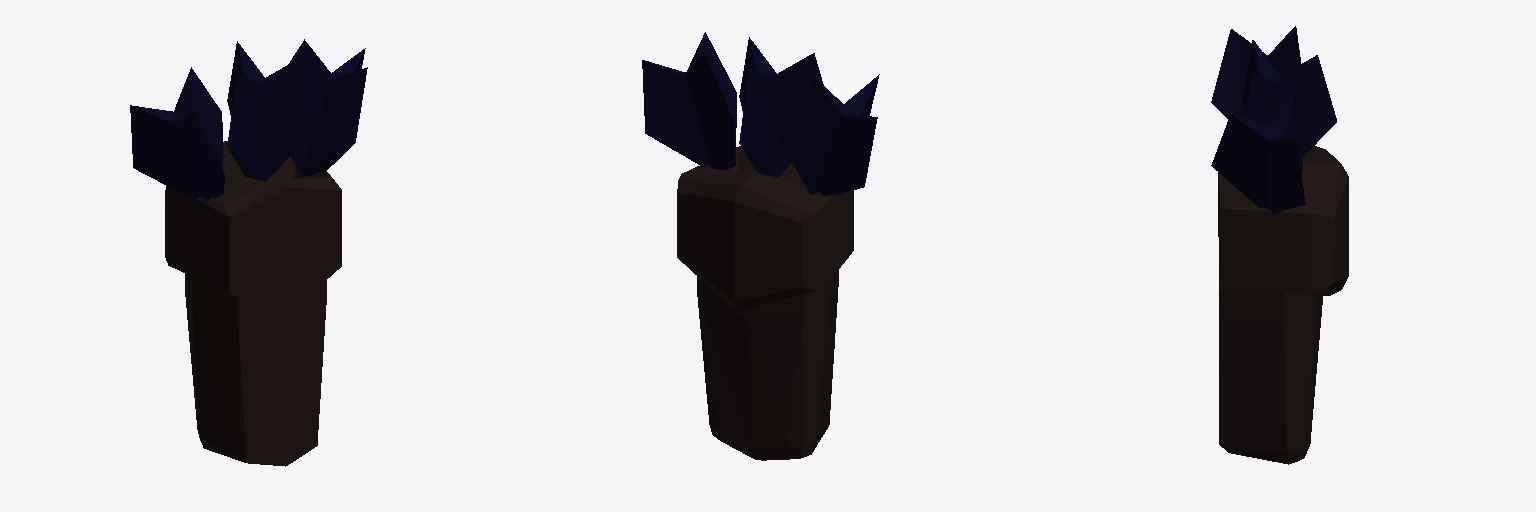
The model's file is quiver_purple.obj.
The picture shows the model from 3 angles: view 1: azimuth 30°, elevation 25°; view 2: azimuth 150°, elevation 25°; view 3: azimuth 270°, elevation 25°; orthographic projection.
Visible parts, largest first — view 1: quiver_purple_Cube.7717; view 2: quiver_purple_Cube.7717; view 3: quiver_purple_Cube.7717.
Boxes of the visible parts, <box> form: quiver_purple_Cube.7717: <box>130,39,367,466</box>; quiver_purple_Cube.7717: <box>642,32,879,460</box>; quiver_purple_Cube.7717: <box>1211,26,1348,464</box>.
Bounding box in the file's own units: 0.3728 × 0.6087 × 0.1886.